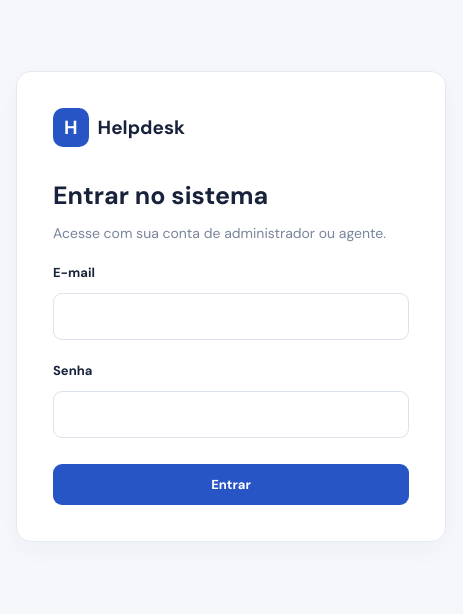
Test: Login › mostra mensagem quando o login falha
The image size is (463, 614).
Type "agente@example.com" into the field labelled "E-mail". click: (231, 316)
box: [53,292,409,340]
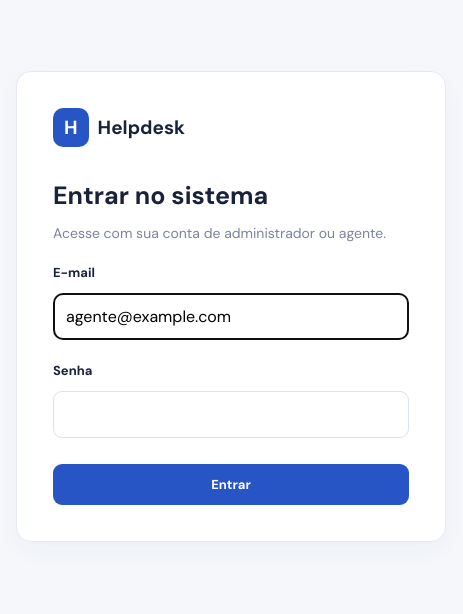
Type "senha-incorreta" into the password field labelled "Senha". click: (231, 414)
box: [53,390,409,438]
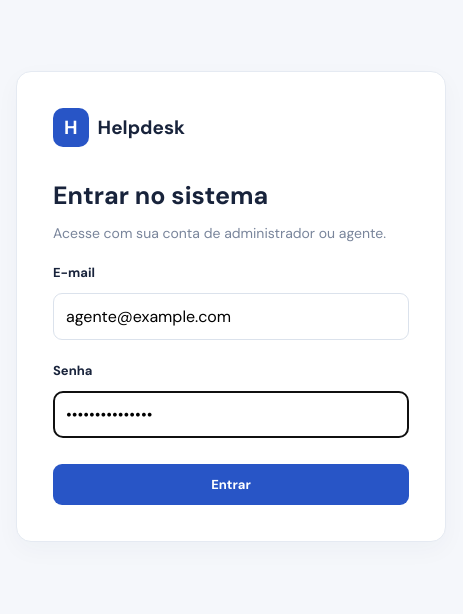
Click the button "Entrar". click: (231, 484)
box: [53,464,409,504]
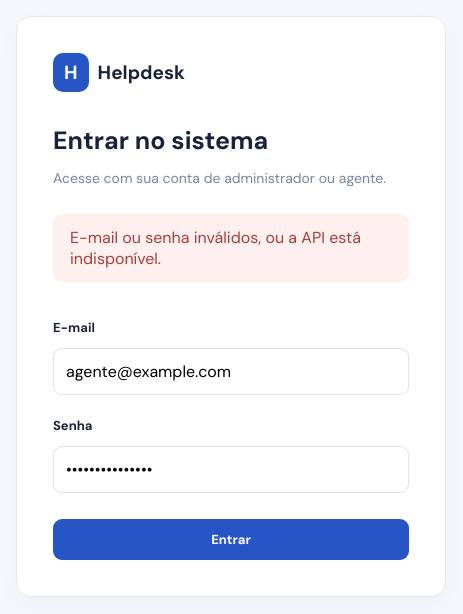
Check: the message shows "E-mail ou senha inválidos", box [70,226,361,268]
